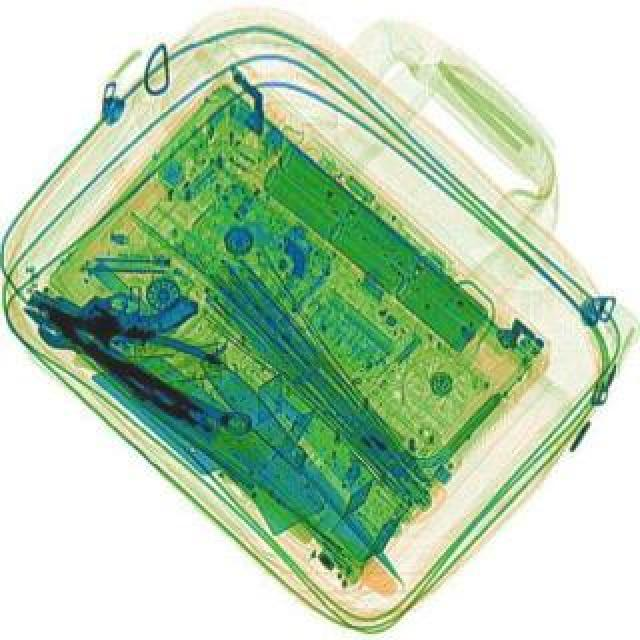gun: (24, 236, 200, 368)
knife: (190, 342, 422, 598)
scissors: (32, 306, 258, 444)
wrench: (24, 290, 226, 420)
